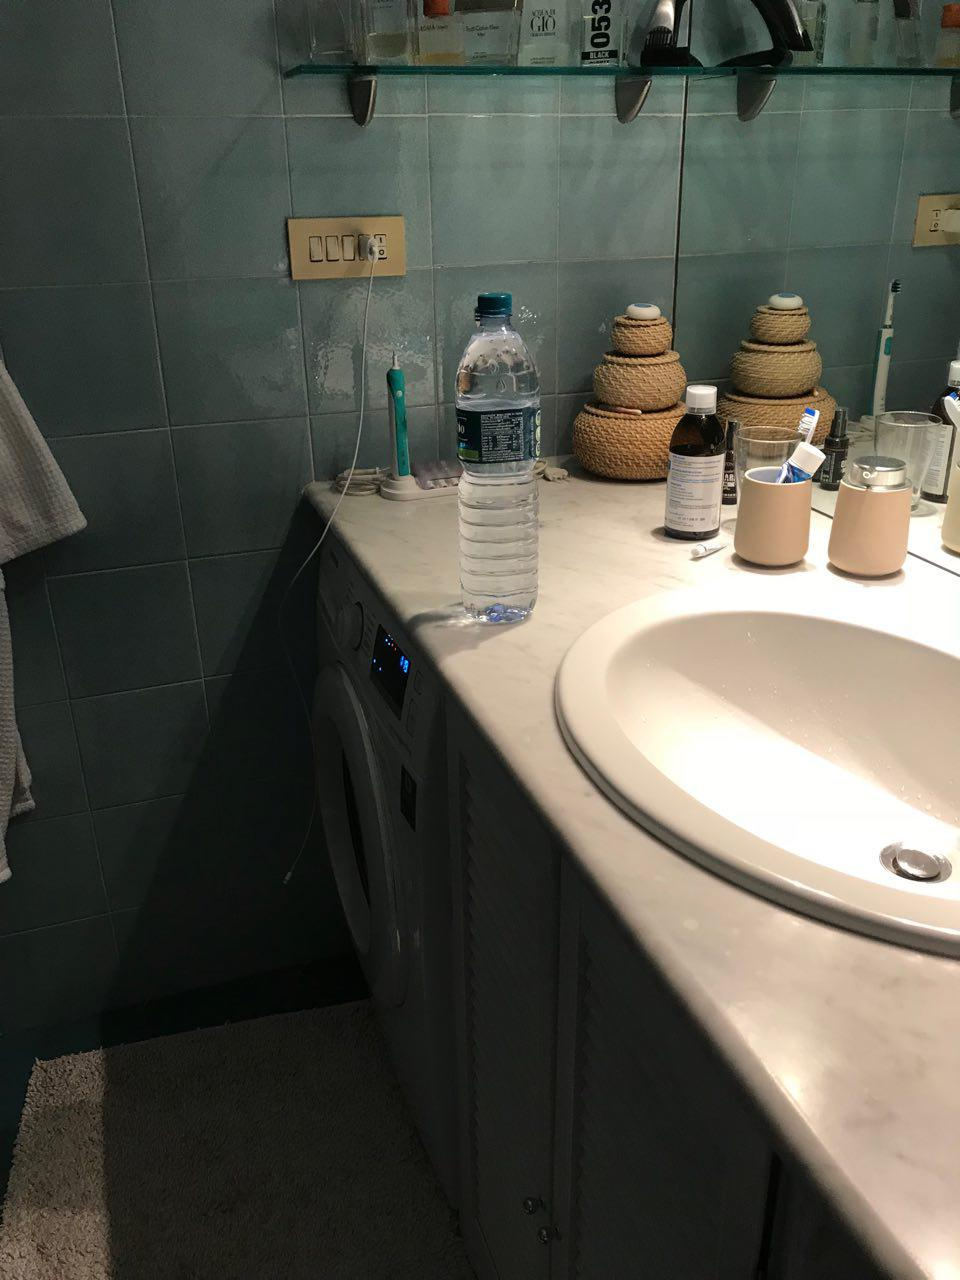san_bernardo: (453, 292, 541, 626)
